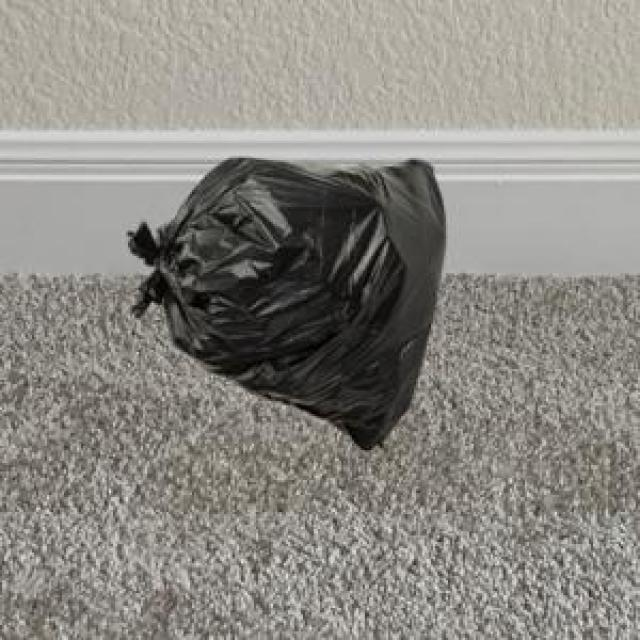miscellaneous trash: (124, 154, 442, 446)
